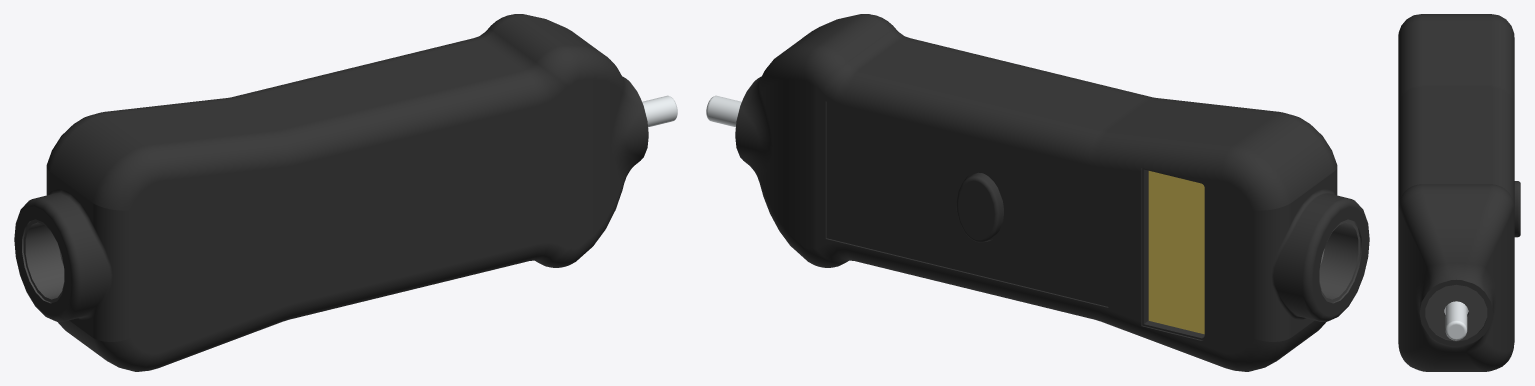
The model's file is RPM.FBX.
3 views of the same model, side by side, from view 1: azimuth 30°, elevation 25°; view 2: azimuth 150°, elevation 25°; view 3: azimuth 270°, elevation 25° (orthographic). The views are drawn at different scales.
Visible parts, largest first — view 1: Fillet8; view 2: Fillet8; view 3: Fillet8.
Part boxes in pixels (x1,y1,x2,y2): Fillet8: (14, 14, 677, 371); Fillet8: (706, 14, 1369, 371); Fillet8: (1398, 14, 1520, 371).
Size of the model in its own units: 0.1915 by 0.0649 by 0.0391.
